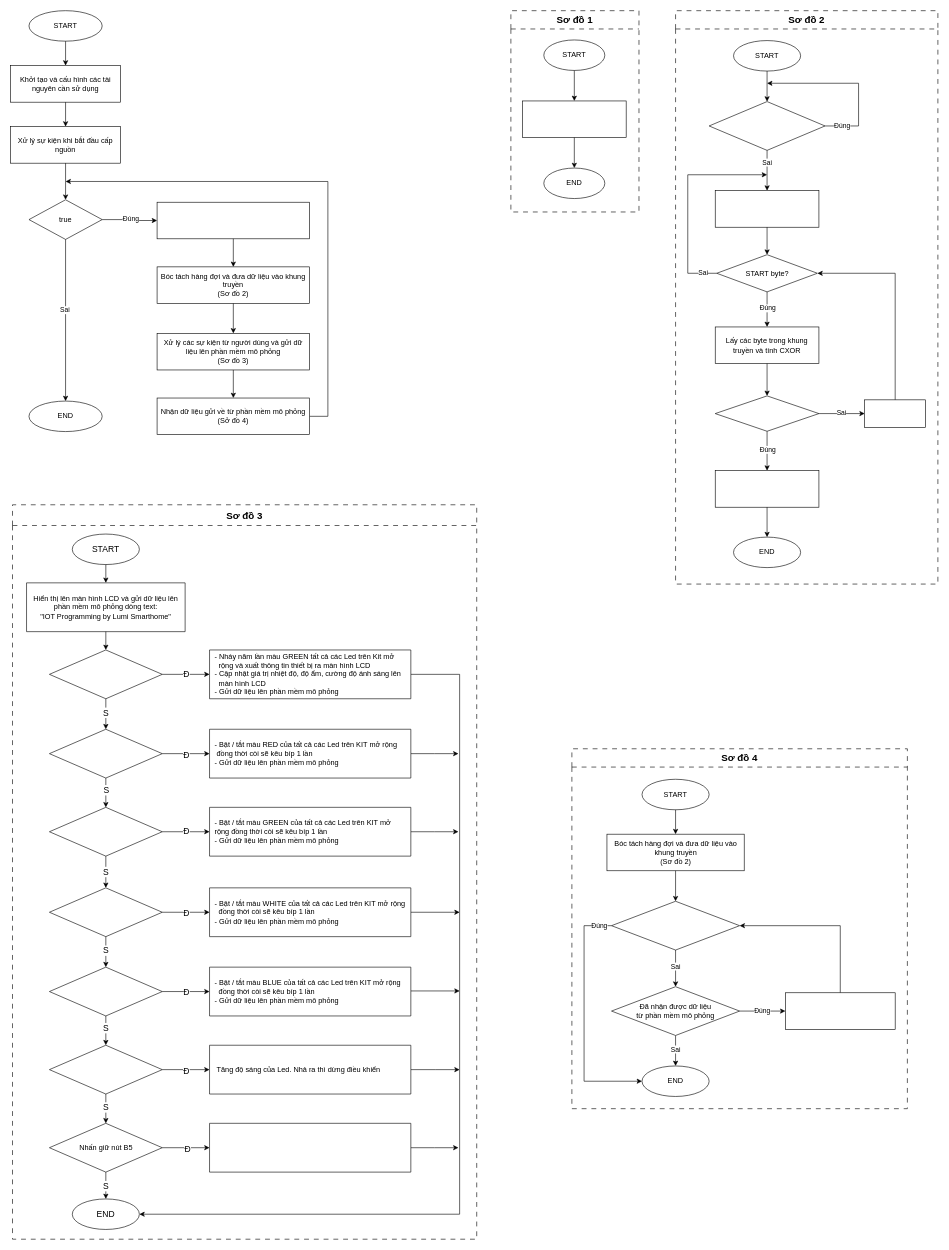
This 949x1250 diagram has some shape labels left out. Here are the shapes that lost their labels. From the top down, the centre of each, then its label:
At point 574,119: "Đưa byte vào hàng đợi".
At point 767,125: "Hàng đợi trống?".
At point 233,220: "Thực thi ngắt để đưa dữ liệu vào hàng đợi (Sơ đồ 1)".
At point 767,208: "Lấy dữ liệu ra khỏi hàng đợi".
At point 767,413: "CXOR?".
At point 895,413: "Báo lỗi".
At point 767,488: "Thông báo nhận dữ liệu thành công".
At point 105,674: "Nhấn nút B3 năm lần".
At point 105,753: "Nhấn nút B1 một lần".
At point 105,831: "Nhấn nút B2 một lần".
At point 105,912: "Nhấn nút B4 một lần".
At point 675,925: "Hàng đợi trống".
At point 105,991: "Nhấn nút B5 một lần".
At point 840,1010: "Thực thi các sự kiện tương ứng với từng ngoại vi".
At point 105,1069: "Nhấn giữ nút B1".
At point 310,1147: "Giảm độ sáng của Led. Nhả ra thì dừng điều khiển".
